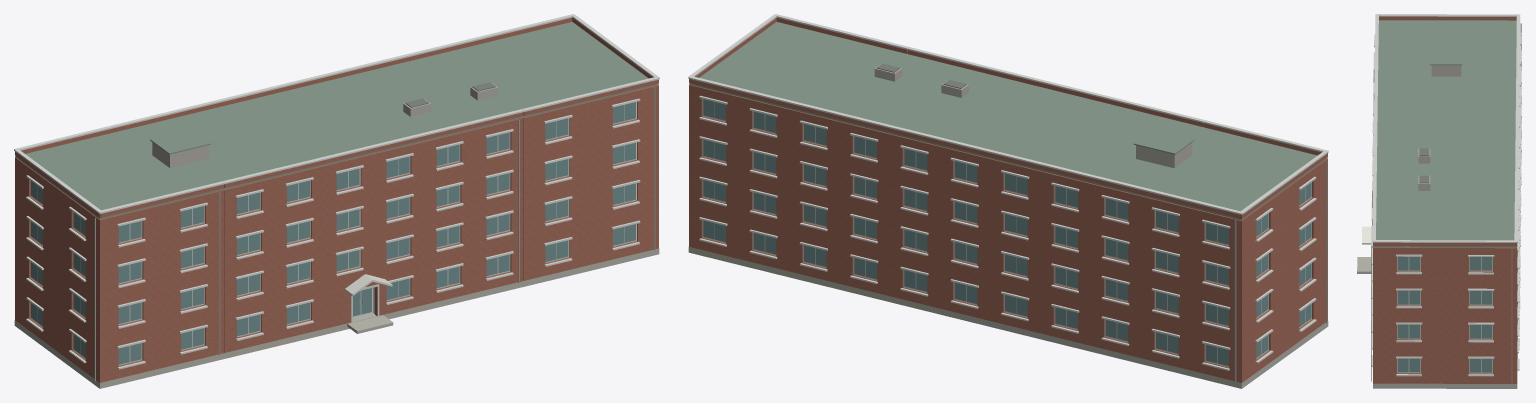
3 views of the same model, side by side, from view 1: azimuth 30°, elevation 25°; view 2: azimuth 150°, elevation 25°; view 3: azimuth 270°, elevation 25° (orthographic). The views are drawn at different scales.
Visible parts, largest first — view 1: dorm__brick, dorm__roof, dorm__frame, dorm__glass, dorm__threshold-entry, dorm__equipment, dorm__metal; view 2: dorm__brick, dorm__roof, dorm__glass, dorm__frame, dorm__threshold-entry, dorm__equipment, dorm__metal; view 3: dorm__roof, dorm__brick, dorm__frame, dorm__glass, dorm__threshold-entry, dorm__equipment, dorm__metal, dorm__shade, dorm__canopy.
Boxes of the visible parts, x1,y1,x2,y2 form: dorm__brick: [15, 17, 658, 382]; dorm__roof: [15, 22, 658, 219]; dorm__frame: [14, 14, 659, 369]; dorm__glass: [31, 102, 635, 364]; dorm__threshold-entry: [14, 248, 659, 388]; dorm__equipment: [152, 82, 497, 168]; dorm__metal: [94, 87, 655, 381]; dorm__brick: [689, 18, 1327, 382]; dorm__roof: [689, 22, 1327, 220]; dorm__glass: [703, 99, 1311, 366]; dorm__frame: [688, 14, 1328, 370]; dorm__threshold-entry: [688, 247, 1328, 388]; dorm__equipment: [874, 63, 1192, 168]; dorm__metal: [1234, 161, 1327, 382]; dorm__roof: [1373, 20, 1516, 247]; dorm__brick: [1373, 16, 1517, 383]; dorm__frame: [1371, 14, 1521, 376]; dorm__glass: [1398, 256, 1492, 372]; dorm__threshold-entry: [1357, 257, 1517, 388]; dorm__equipment: [1418, 65, 1461, 190]; dorm__metal: [1371, 23, 1521, 384]; dorm__shade: [1419, 148, 1429, 183]; dorm__canopy: [1362, 226, 1371, 244].
Size of the model in its own units: 49.21 by 15.62 by 14.95.
Materials: 10 (1 with a texture image).
